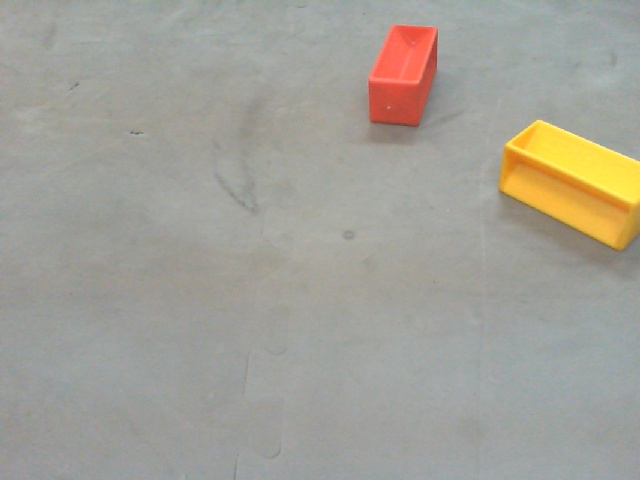RedSample: (367, 23, 444, 129)
YellowSample: (494, 117, 640, 258)
